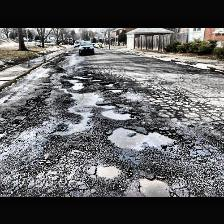pothole: (106, 125, 177, 149), (136, 174, 172, 196), (100, 108, 138, 118), (94, 164, 120, 176), (106, 86, 126, 92), (102, 80, 116, 86), (96, 102, 116, 106), (90, 76, 102, 79)
